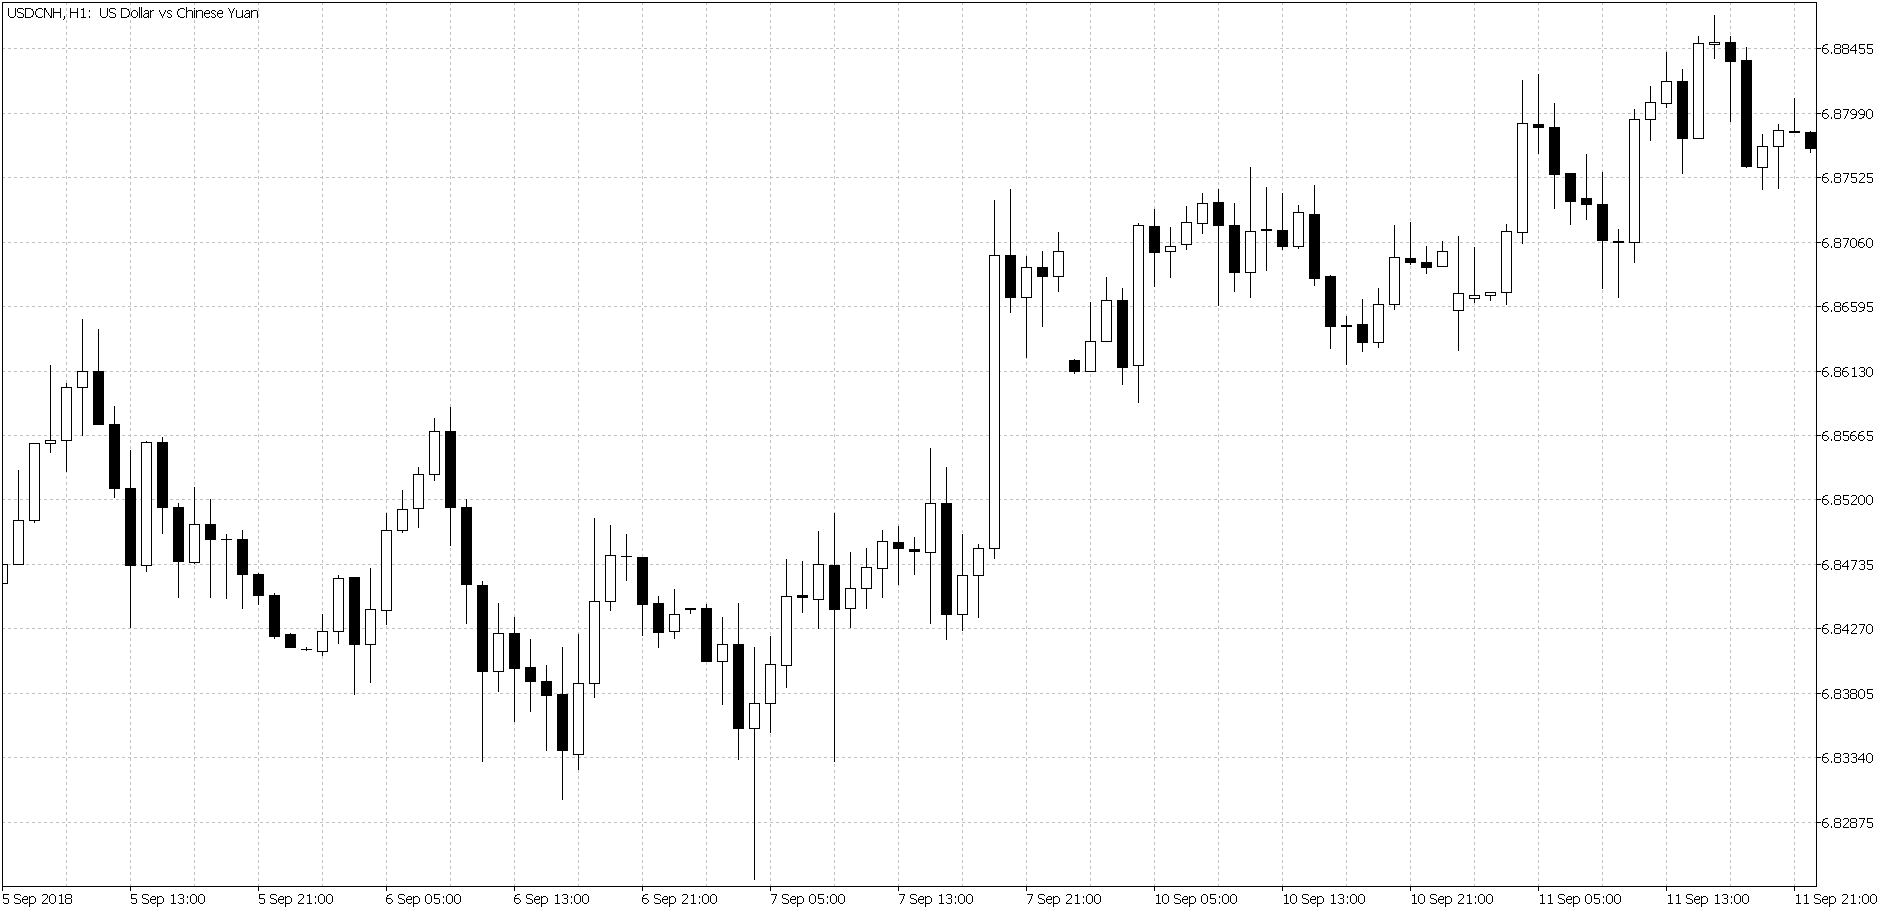3blackcrows: (442, 407, 489, 714)
eveningDojiStar: (604, 519, 650, 646)
eveningStar: (1692, 13, 1754, 185)
morningDojiStar: (1596, 107, 1642, 300)
